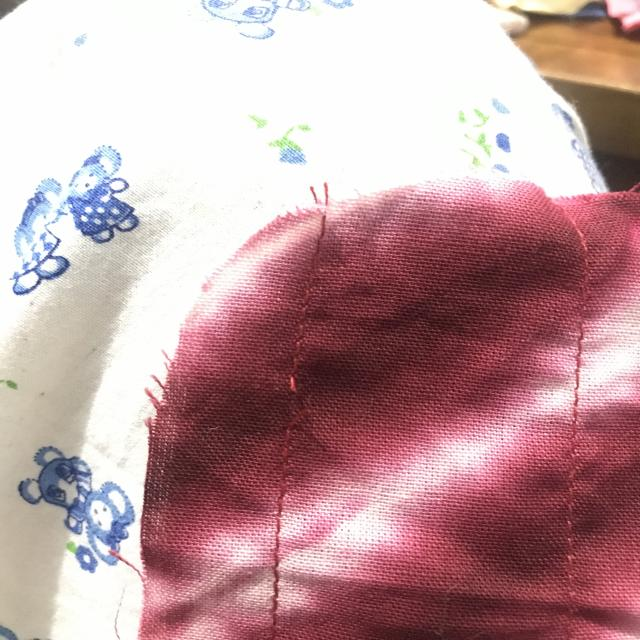broken: (268, 364, 320, 458)
good: (256, 492, 301, 608)
